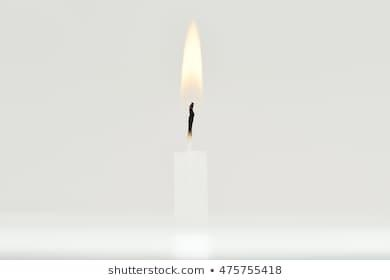fire: (180, 18, 204, 102)
